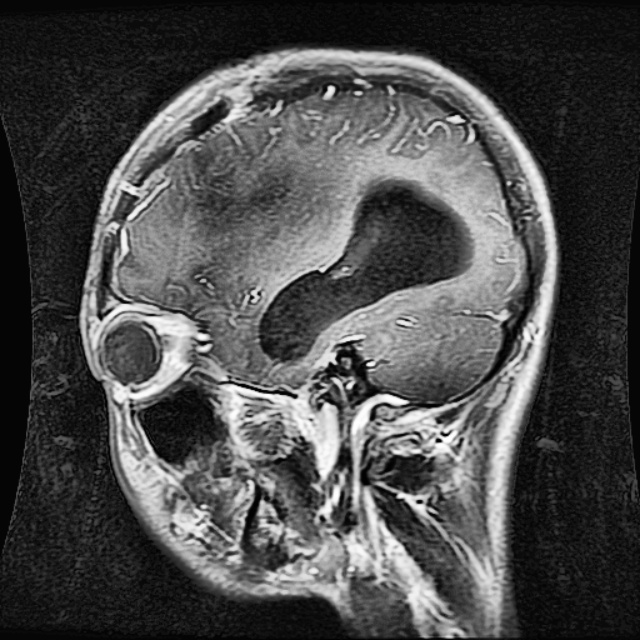Meningioma: (262, 174, 475, 360)
